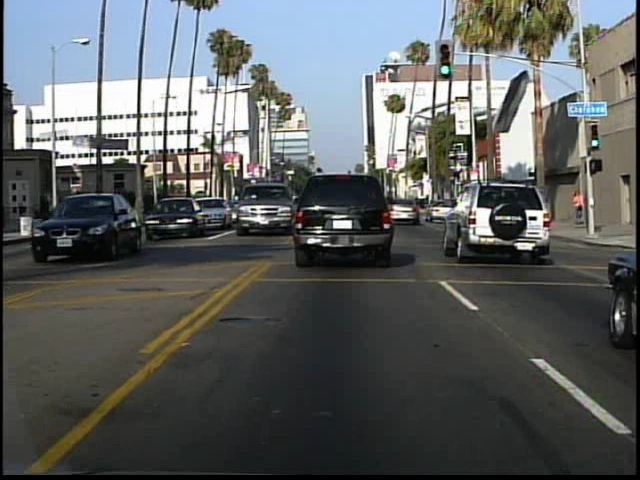person: (571, 188, 586, 227)
